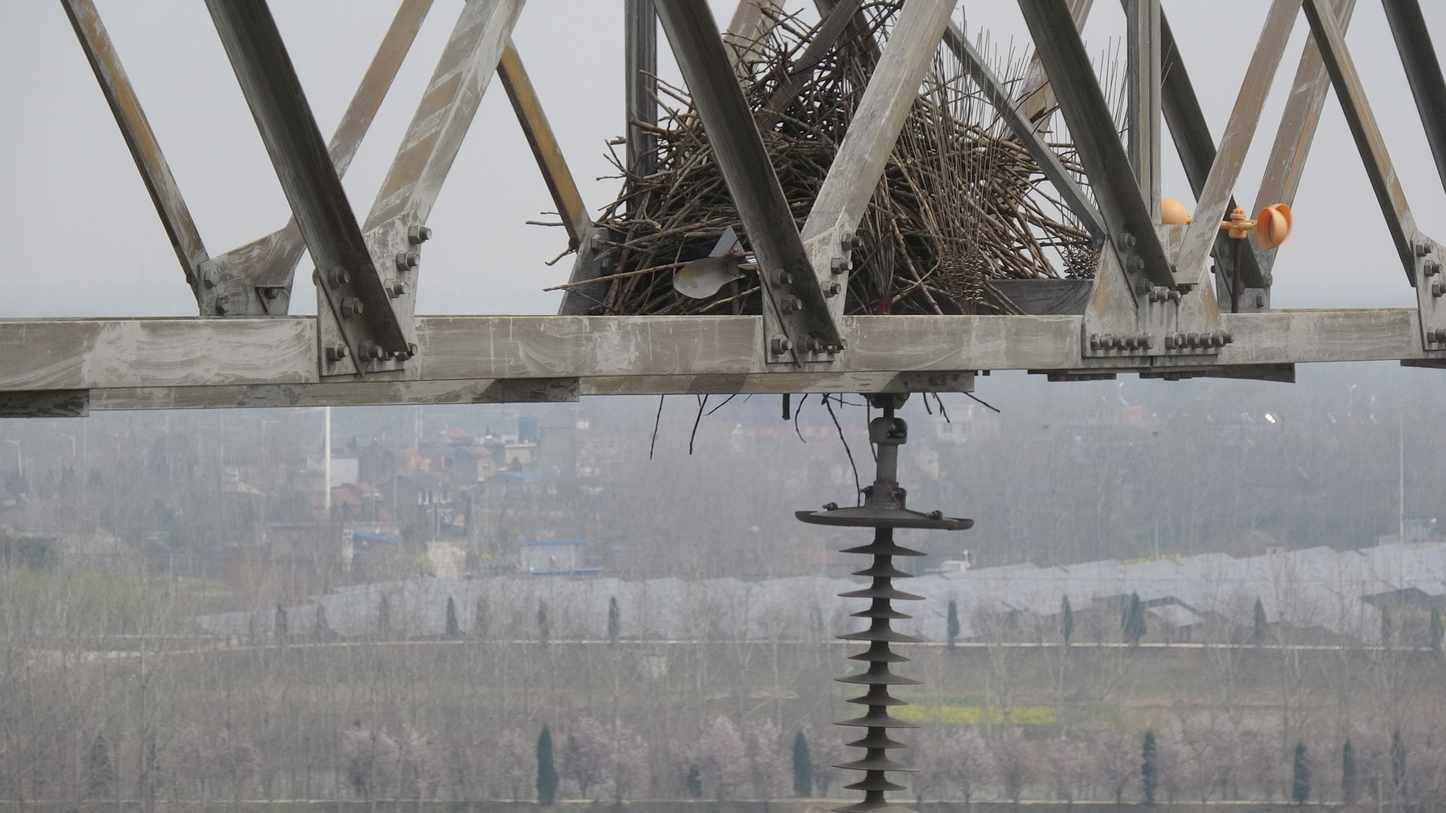insulator: (821, 537, 934, 813)
